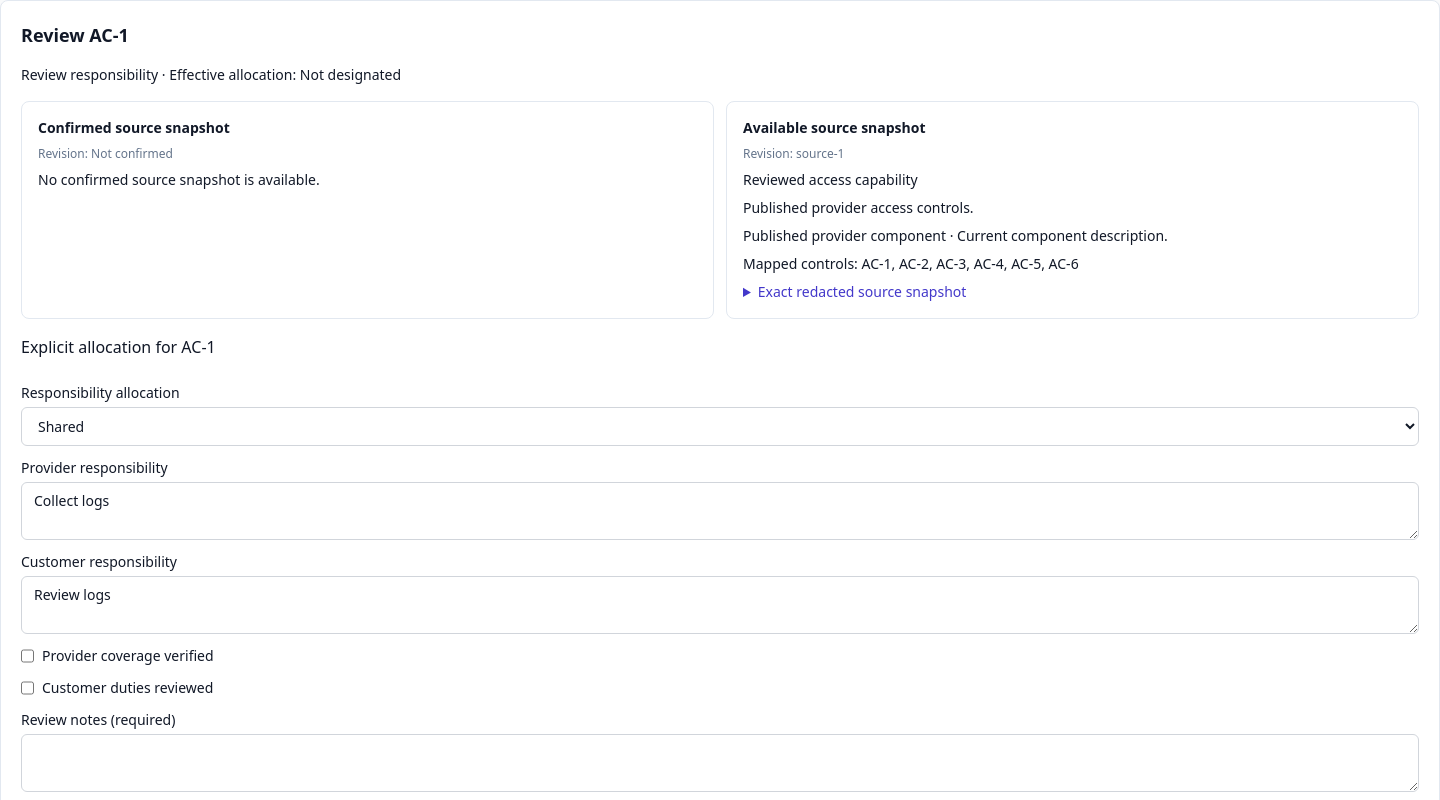
Scenario: System capability responsibility review › bounds confirmation even if transport never settles after cancellation
Click the checkbox labelled "Provider coverage verified": coordinates (28, 656) [21,646,34,666]
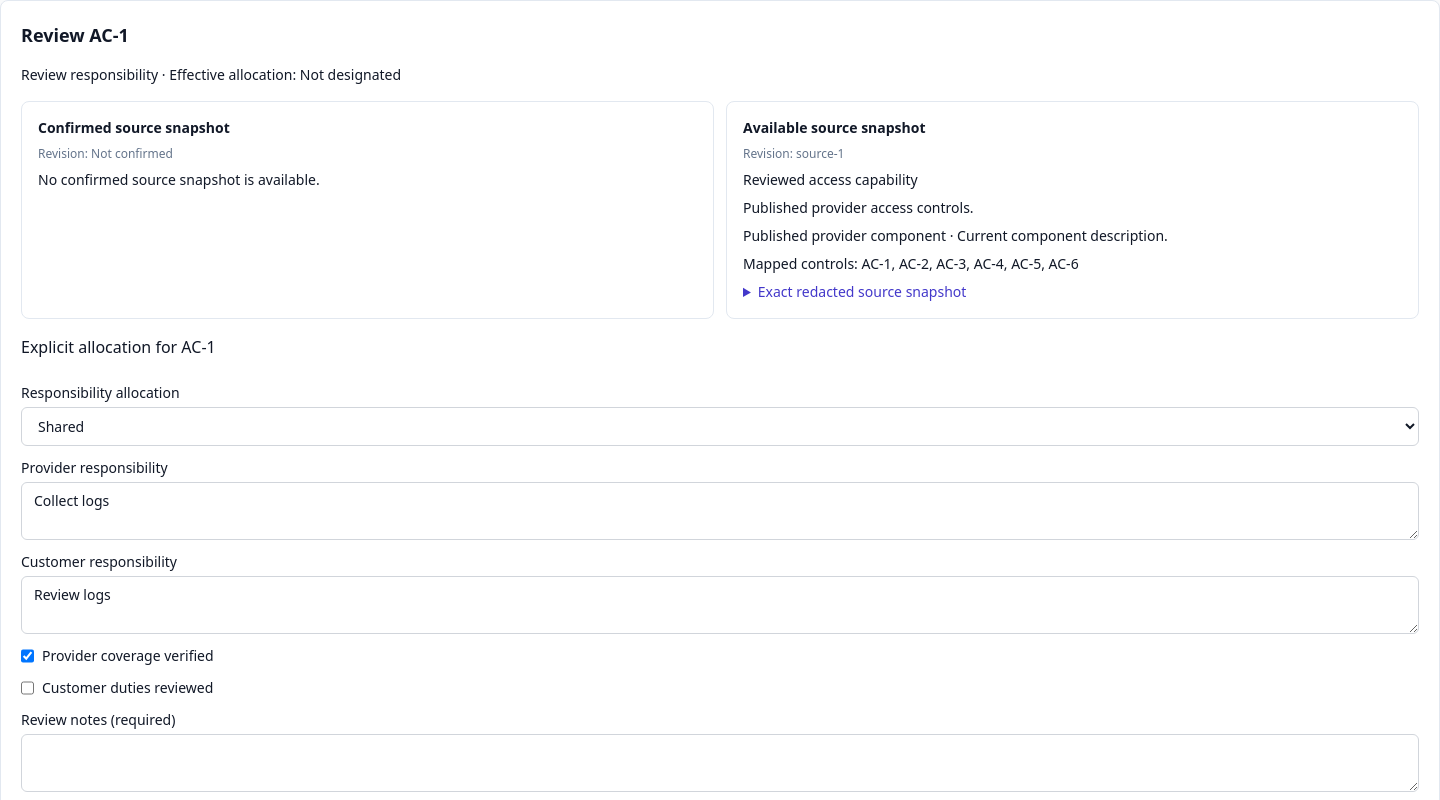
Click the checkbox labelled "Customer duties reviewed": coordinates (28, 688) [21,678,34,698]
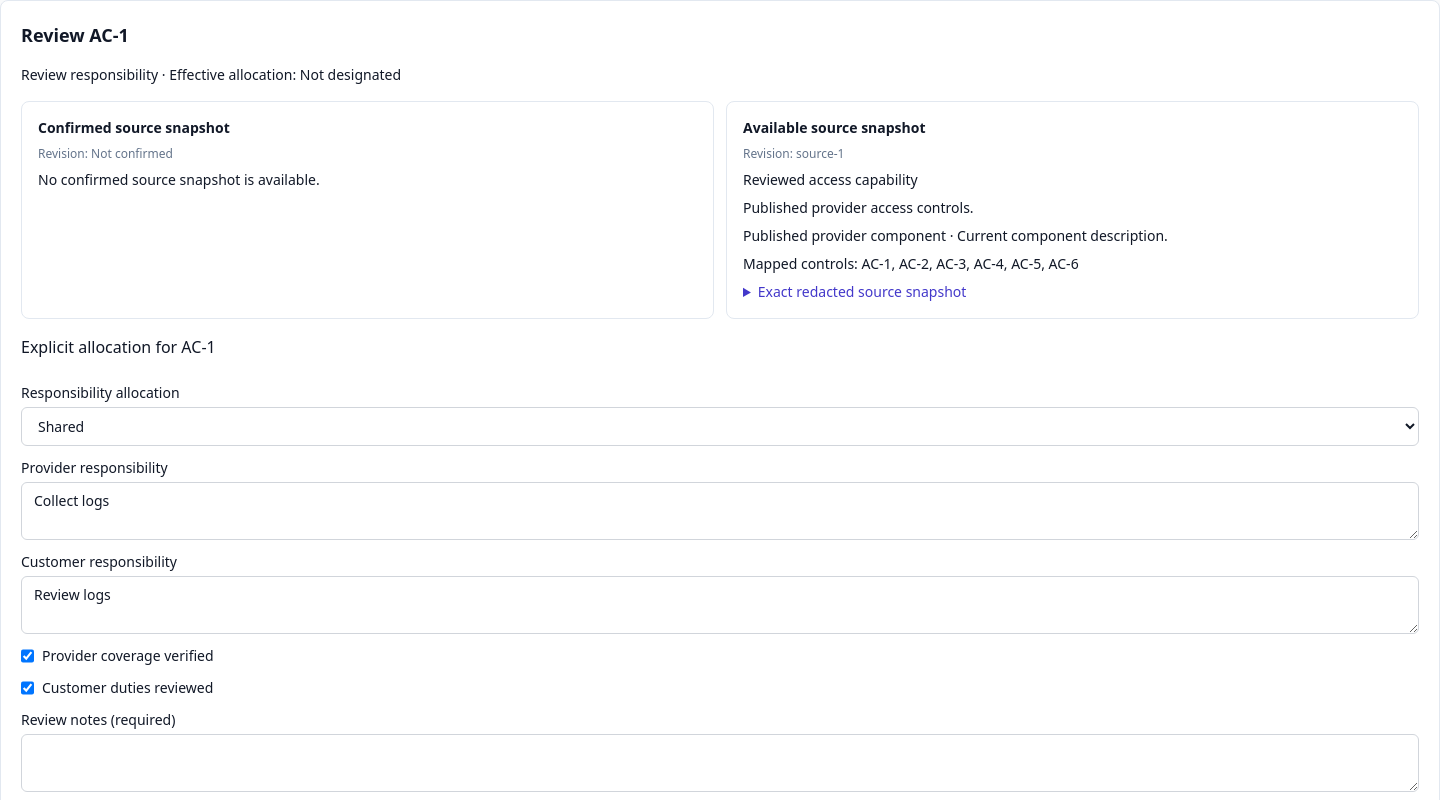
In the text box labelled "Review notes (required)": coordinates (720, 763) [21,734,1419,792], type "Verified duties."
(page scrolled)
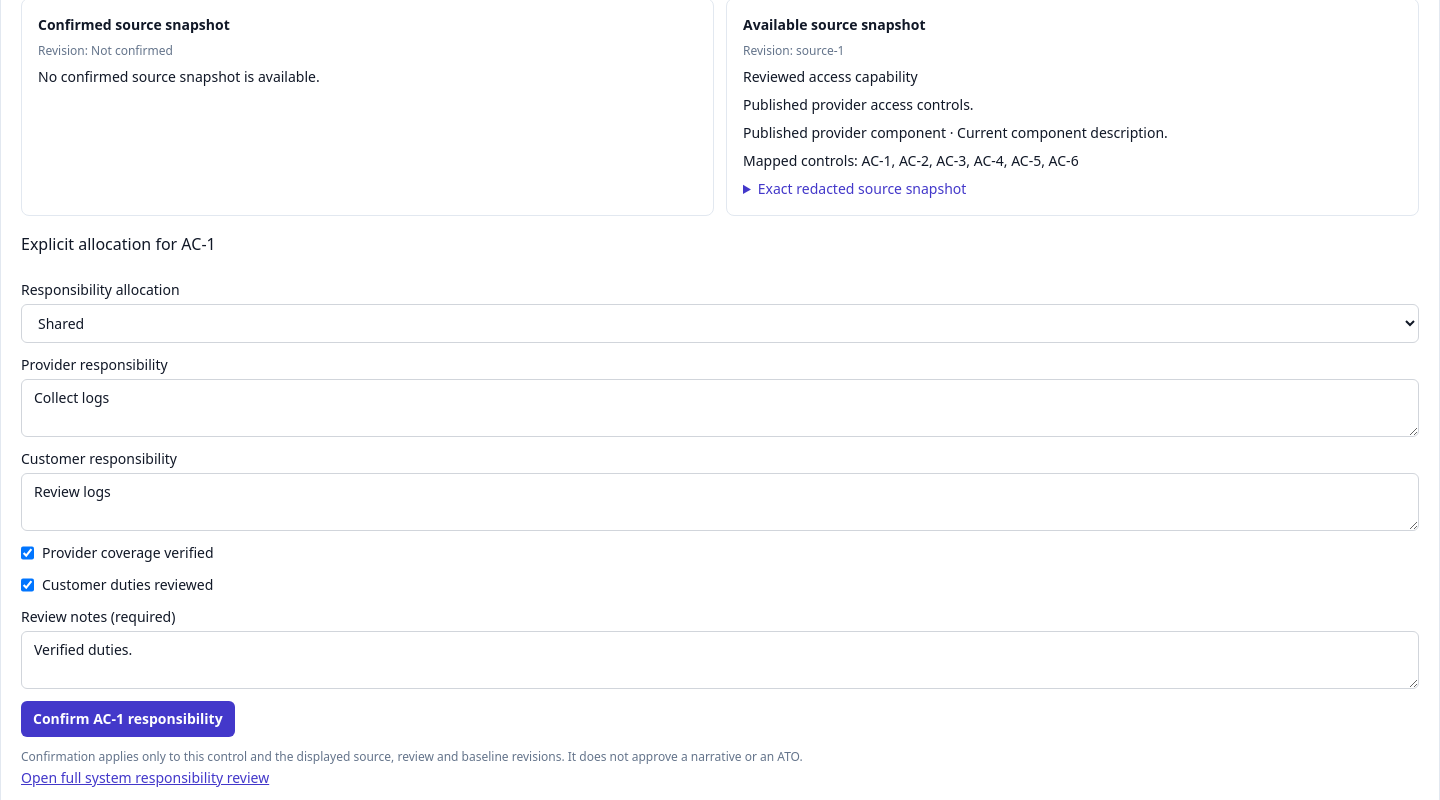
Click the button "Confirm AC-1 responsibility": coordinates (128, 719) [21,701,235,737]
Wait 30001 ms
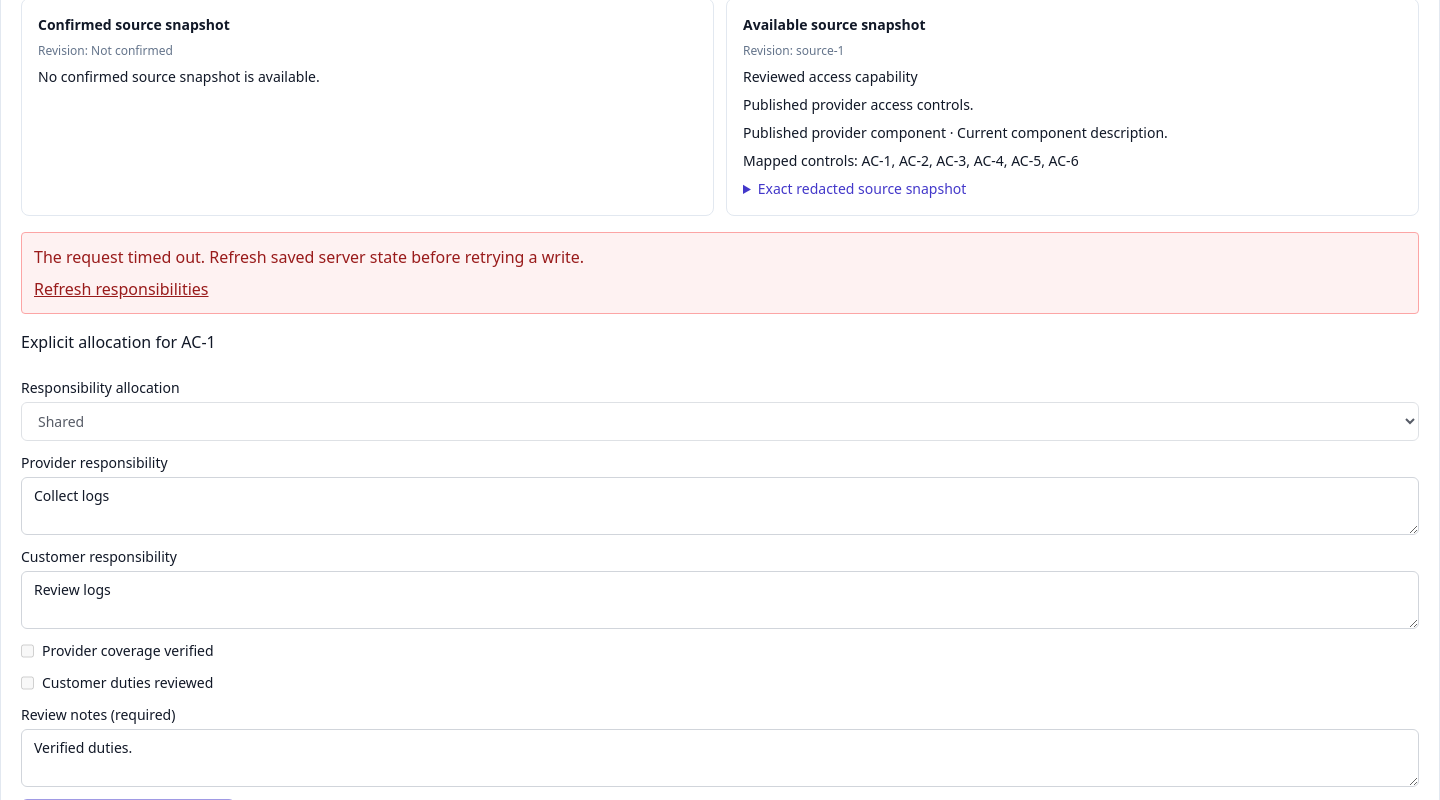
Check: the message shows "timed out", box [34,246,584,268]
Check: the button "Refresh responsibilities" is shown, box [34,277,208,301]
